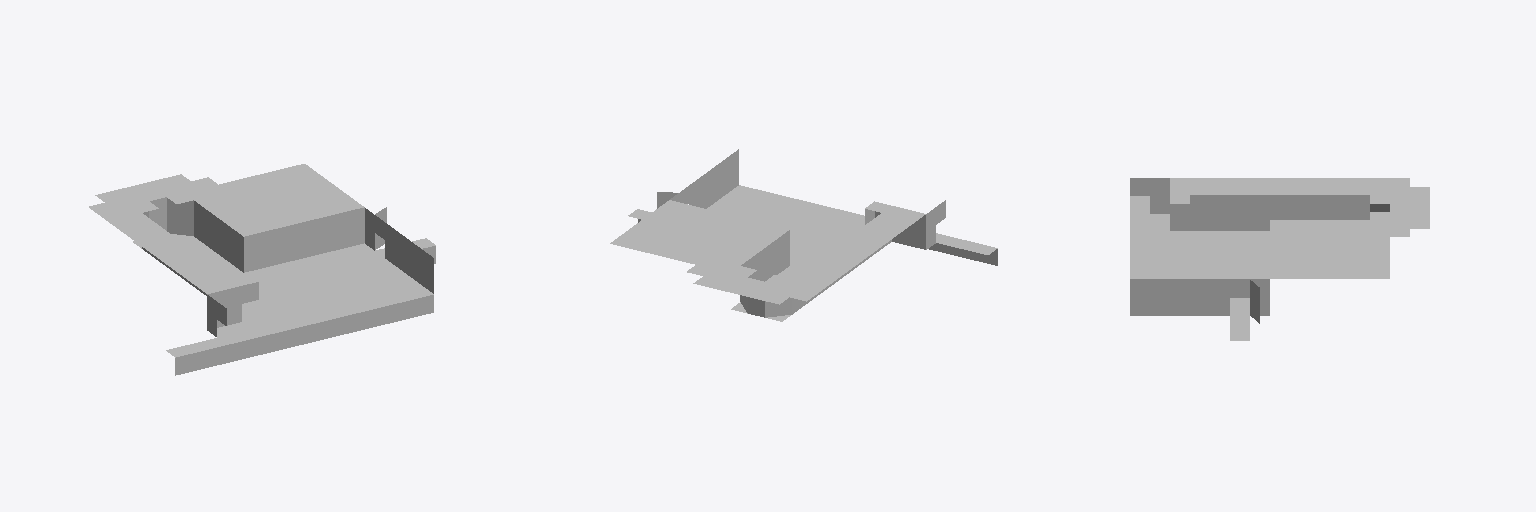
The model's file is evencare1.obj.
The picture shows the model from 3 angles: view 1: azimuth 30°, elevation 25°; view 2: azimuth 150°, elevation 25°; view 3: azimuth 270°, elevation 25°; orthographic projection.
Parts seen in each view (by area): view 1: Scene; view 2: Scene; view 3: Scene.
Part boxes in pixels (left/top/right/bottom): Scene: left=89, top=164, right=435, bottom=375; Scene: left=610, top=149, right=997, bottom=321; Scene: left=1130, top=178, right=1429, bottom=340.
Bounding box in the file's own units: 18 × 3 × 15.